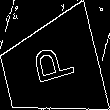P_W: (26, 44, 77, 93)
